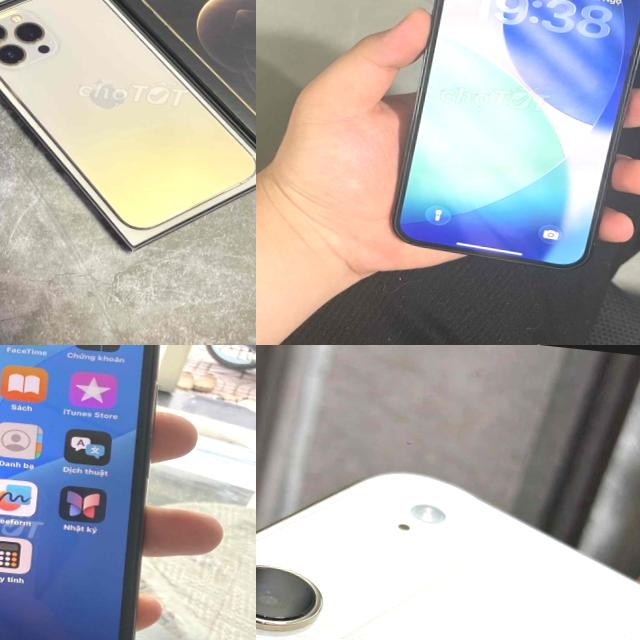gen_12_13: (394, 0, 640, 292), (0, 0, 256, 242)
gen_17: (256, 441, 640, 640)
gen_x_xs: (0, 345, 179, 640)
